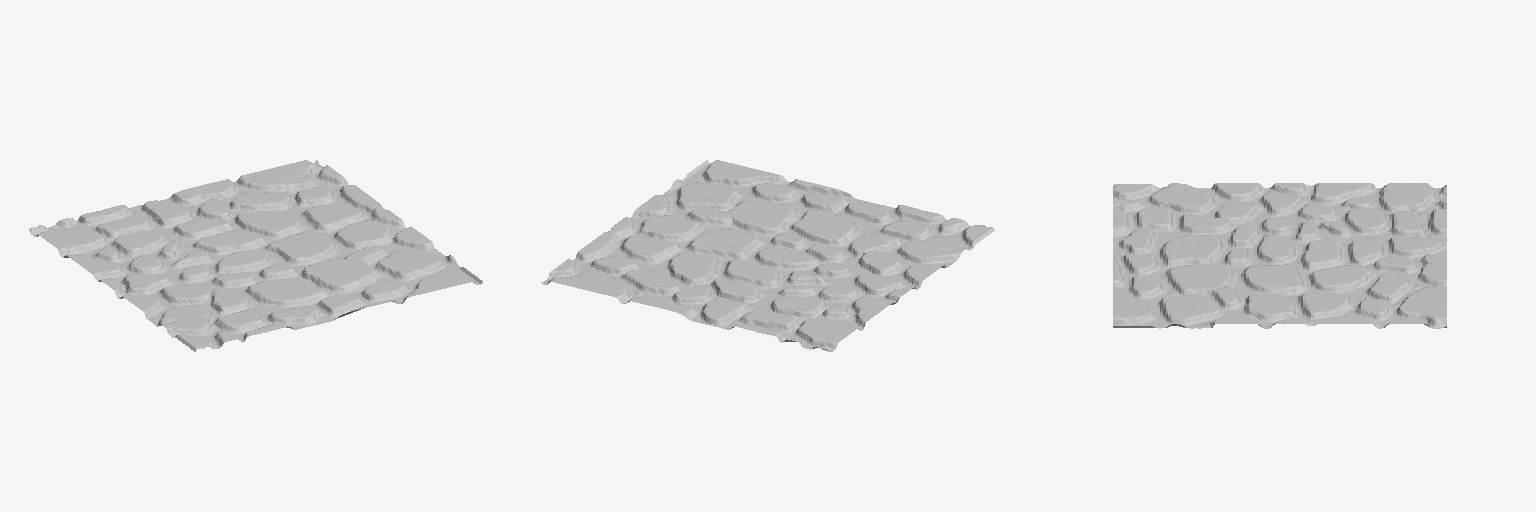
The model's file is floor.obj.
3 views of the same model, side by side, from view 1: azimuth 30°, elevation 25°; view 2: azimuth 150°, elevation 25°; view 3: azimuth 270°, elevation 25° (orthographic).
Visible parts, largest first — view 1: default; view 2: default; view 3: default.
Part boxes in pixels (x1,y1,x2,y2): default: (29,160,482,351); default: (541,160,994,351); default: (1113,183,1446,328).
Bounding box in the file's own units: 9.19 × 0.1616 × 9.19.